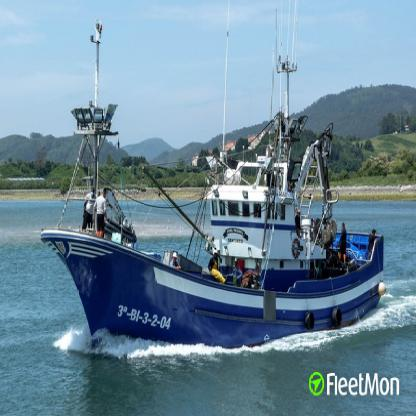Fishing Boat: (38, 0, 387, 350)
